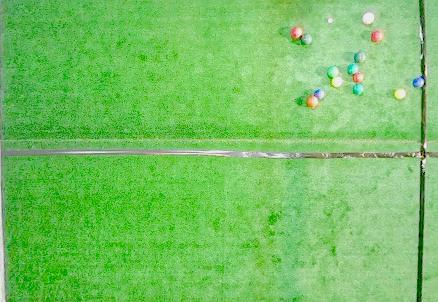blue: (314, 89, 324, 99), (413, 78, 424, 87)
green: (354, 51, 366, 63), (327, 66, 339, 78), (347, 64, 358, 75), (353, 84, 364, 95), (301, 34, 312, 44)
red: (362, 12, 374, 24), (371, 31, 384, 42), (291, 27, 302, 39), (308, 95, 318, 107), (353, 72, 364, 82)
vline: (415, 1, 438, 301), (0, 1, 10, 301)
white: (328, 18, 333, 23)
yellow: (394, 88, 406, 100), (331, 76, 343, 88)
